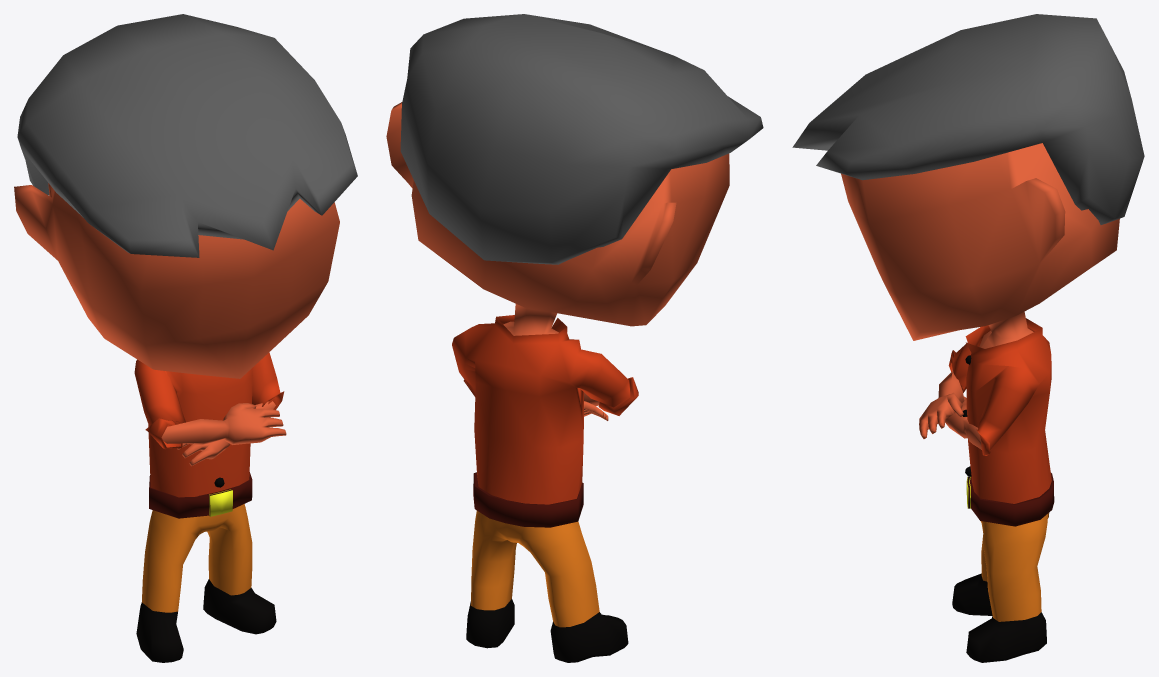
File: Male NPC - orange shirt,yellow pants.FBX
3 views of the same model, side by side, from view 1: azimuth 30°, elevation 25°; view 2: azimuth 150°, elevation 25°; view 3: azimuth 270°, elevation 25° (orthographic). The views are drawn at different scales.
Visible parts, largest first — view 1: Group002, BrockLee; view 2: Group002, BrockLee; view 3: Group002, BrockLee.
Boxes of the visible parts, left/top/right/bottom form: Group002: left=14, top=14, right=357, bottom=612; BrockLee: left=136, top=401, right=286, bottom=662; Group002: left=386, top=14, right=763, bottom=627; BrockLee: left=466, top=392, right=628, bottom=662; Group002: left=792, top=14, right=1144, bottom=621; BrockLee: left=919, top=355, right=1054, bottom=662.
Bounding box in the file's own units: 90.1 × 100 × 184.
